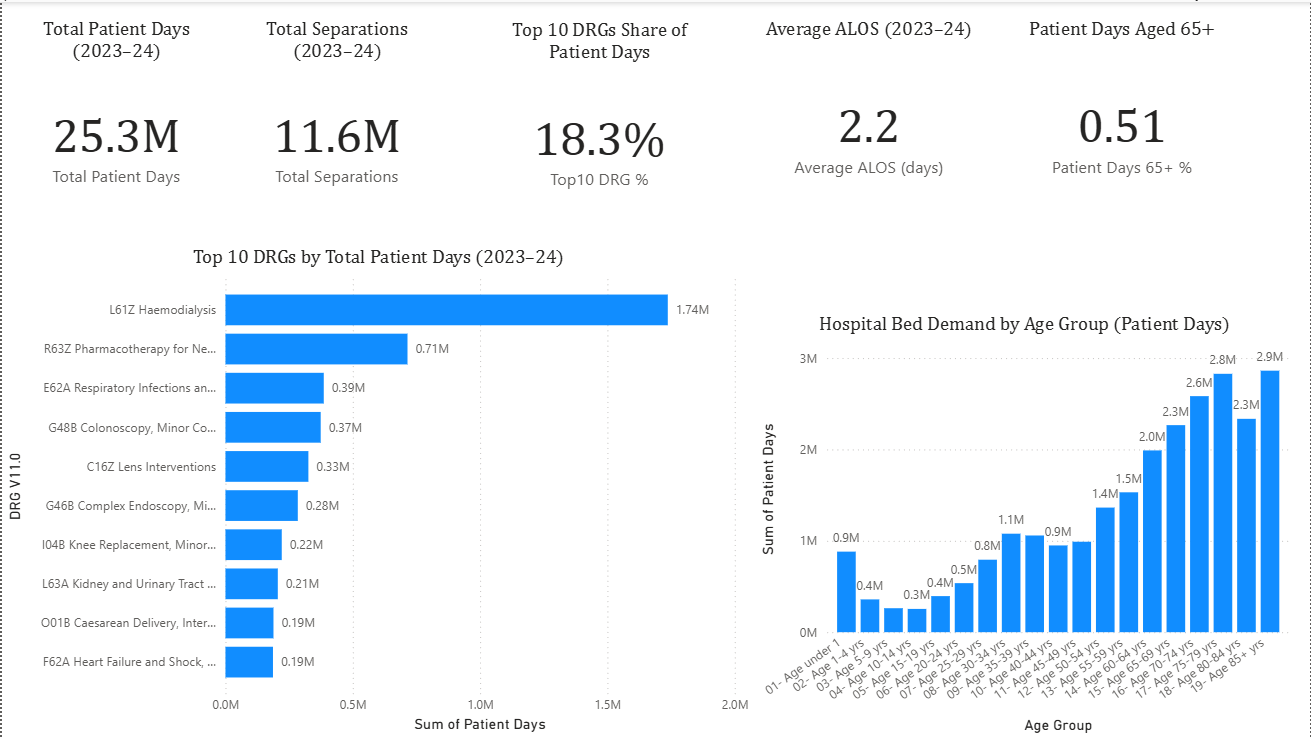

The dashboard page shown, as its layout file describes it:
{"tool":"powerbi","page":{"name":"Page 1","canvas":[1280,720],"ordinal":0},"visuals":[{"type":"card","title":"Total Patient Days (2023–24)","fields":{"Values":["DRG Counts Data.Total Patient Days"]},"box":[0,16,224,208],"z":0},{"type":"card","title":"Total Separations (2023–24)","fields":{"Values":["DRG Counts Data.Total Separations"]},"box":[224,16,208,208],"z":1000},{"type":"card","title":"Average ALOS (2023–24)","fields":{"Values":["DRG Counts Data.Average ALOS Correct"]},"box":[736,16,224,208],"z":2000},{"type":"clusteredBarChart","title":"Top 10 DRGs by Total Patient Days (2023–24)","fields":{"Category":["DRG Counts Data.DRG V11.0"],"Y":["Sum(DRG Counts Data.Patient Days)"]},"box":[0,240,736,480],"z":3000},{"type":"clusteredColumnChart","title":"Hospital Bed Demand by Age Group (Patient Days)","fields":{"Category":["DRG Counts Data.Age Group"],"Y":["Sum(DRG Counts Data.Patient Days)"]},"box":[736,304,528,416],"z":4000},{"type":"card","title":"Top 10 DRGs Share of Patient Days","fields":{"Values":["DRG Counts Data.Top10 DRG %"]},"box":[480,16,208,208],"z":5001},{"type":"card","title":"Patient Days Aged 65+","fields":{"Values":["DRG Counts Data.Patient Days 65+ %"]},"box":[960,16,272,208],"z":5002}]}

Visuals, with their boxes in screenshot pixels (x1, y1, x2, y2), scaled from the page's 1280x720 canvas onto the 1311x738 screenshot:
"Total Patient Days (2023–24)" card: (x1=0, y1=16, x2=229, y2=230)
"Total Separations (2023–24)" card: (x1=229, y1=16, x2=442, y2=230)
"Average ALOS (2023–24)" card: (x1=754, y1=16, x2=983, y2=230)
"Top 10 DRGs by Total Patient Days (2023–24)" clusteredBarChart: (x1=0, y1=246, x2=754, y2=737)
"Hospital Bed Demand by Age Group (Patient Days)" clusteredColumnChart: (x1=754, y1=312, x2=1295, y2=737)
"Top 10 DRGs Share of Patient Days" card: (x1=492, y1=16, x2=705, y2=230)
"Patient Days Aged 65+" card: (x1=983, y1=16, x2=1262, y2=230)
